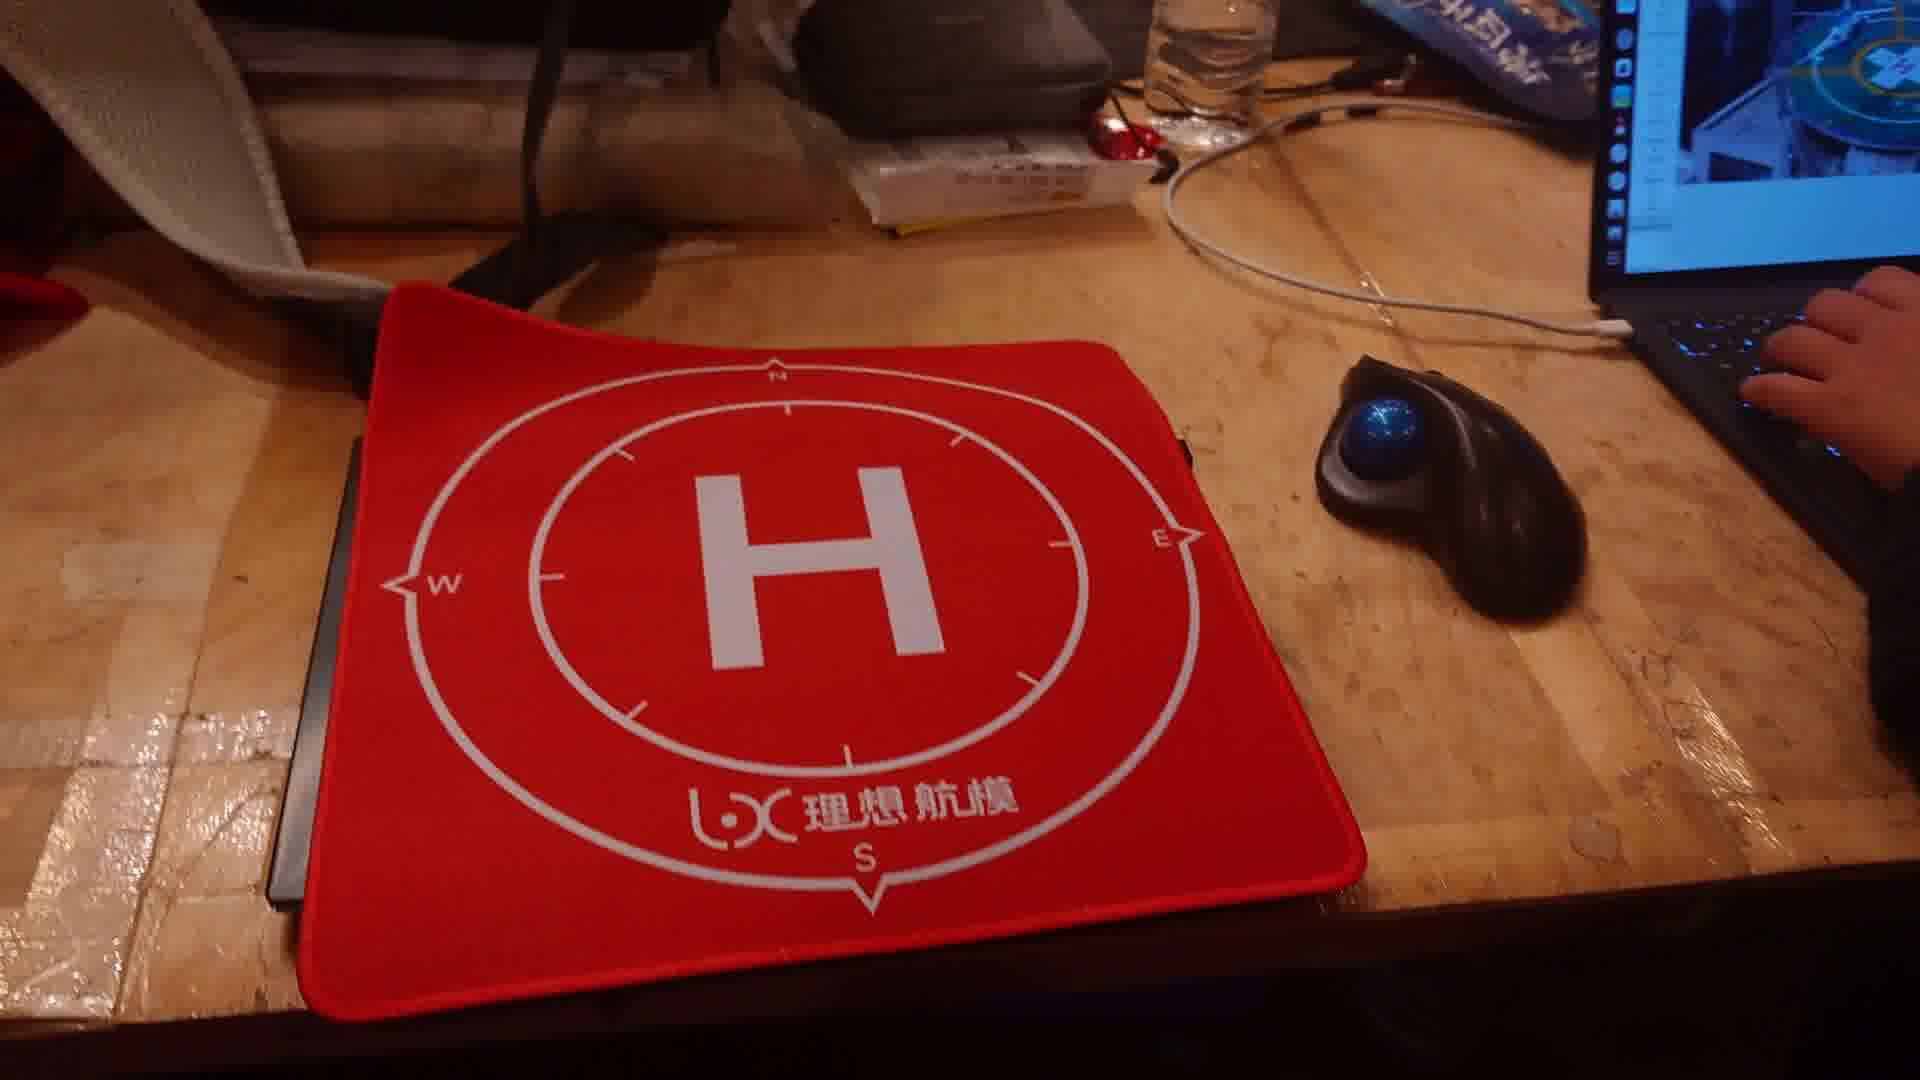H: (698, 468, 945, 671)
